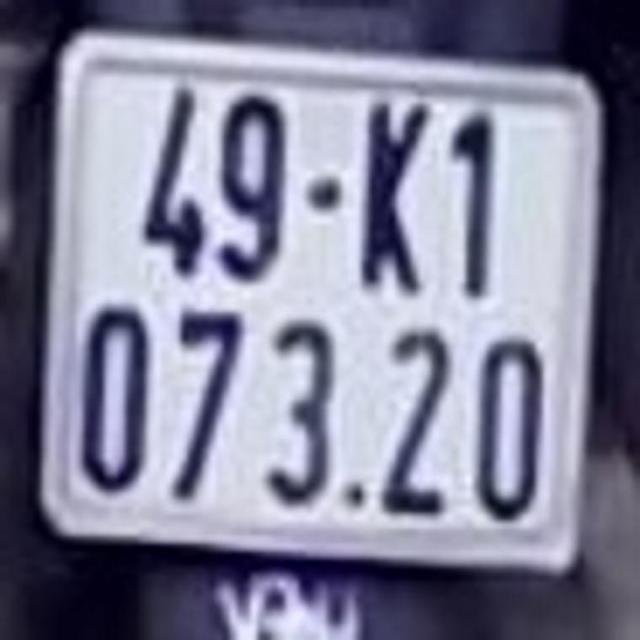0: (67, 266, 152, 501), (481, 302, 554, 524)
1: (448, 73, 507, 304)
2: (370, 281, 458, 521)
3: (268, 284, 344, 519)
4: (136, 64, 209, 284)
7: (170, 275, 249, 512)
9: (215, 70, 292, 294)
K: (352, 70, 435, 300)
